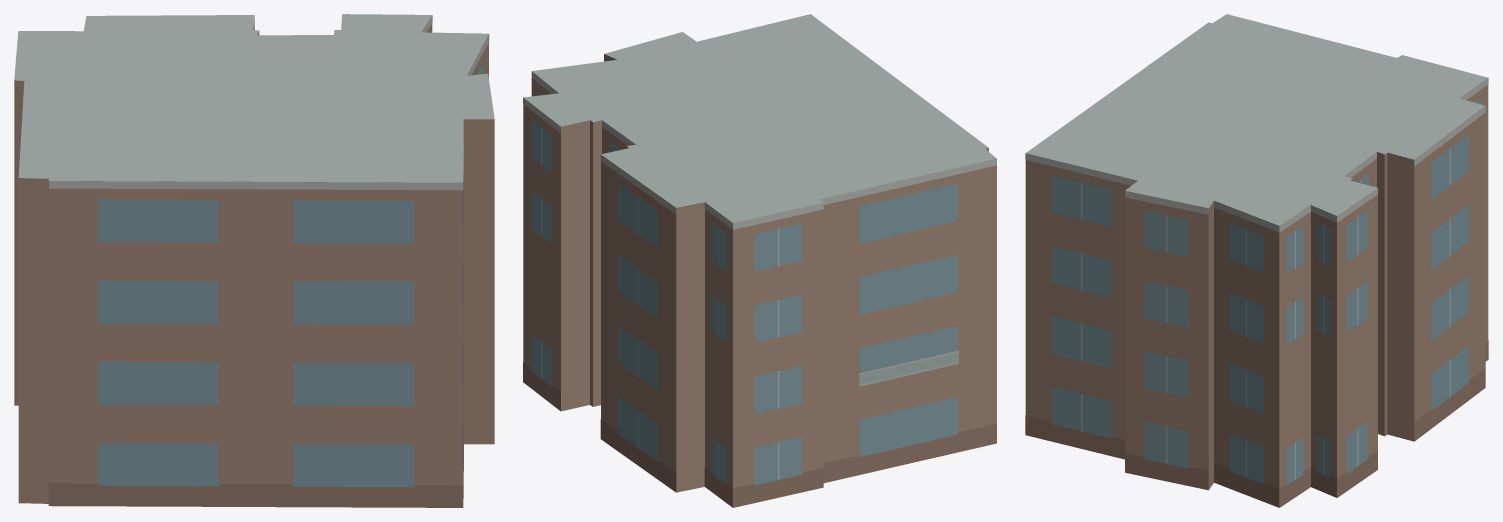
Rendered from survey-upis-32643523.glb.
The picture shows the model from 3 angles, left to right: view 1: azimuth 30°, elevation 25°; view 2: azimuth 150°, elevation 25°; view 3: azimuth 270°, elevation 25°; orthographic projection. The views are drawn at different scales.
Parts seen in each view (by area): view 1: survey-upis-32643523.tmp; view 2: survey-upis-32643523.tmp; view 3: survey-upis-32643523.tmp.
Boxes of the visible parts, x1,y1,x2,y2 form: survey-upis-32643523.tmp: (14, 14, 494, 507); survey-upis-32643523.tmp: (523, 14, 996, 507); survey-upis-32643523.tmp: (1025, 14, 1488, 507).
Bounding box in the file's own units: 16.69 × 10.35 × 15.41.
